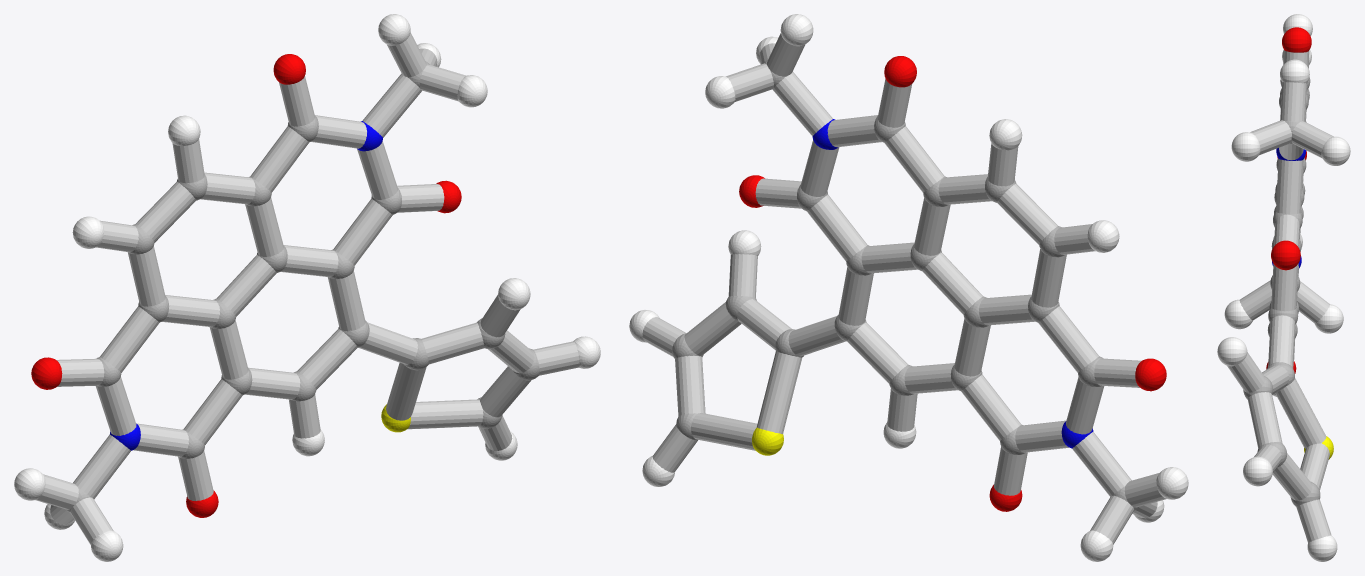
Rendered from Dimethyl_Naphthalene_Dicarboximide_Phi_5_Theta_30_Thiophene.glb.
3 views of the same model, side by side, from view 1: azimuth 30°, elevation 25°; view 2: azimuth 150°, elevation 25°; view 3: azimuth 270°, elevation 25° (orthographic). The views are drawn at different scales.
Parts seen in each view (by area): view 1: grp14119, grp7241, grp1, grp12309, grp11585; view 2: grp14119, grp7241, grp1, grp12309, grp11585, grp13757; view 3: grp14119, grp7241, grp1, grp12309.
Boxes of the visible parts, x1=… form: grp14119: x1=35, y1=32, x2=579, y2=544; grp7241: x1=14, y1=14, x2=600, y2=561; grp1: x1=65, y1=61, x2=539, y2=513; grp12309: x1=31, y1=54, x2=461, y2=517; grp11585: x1=110, y1=121, x2=382, y2=450; grp14119: x1=642, y1=33, x2=1166, y2=544; grp7241: x1=629, y1=14, x2=1188, y2=561; grp1: x1=672, y1=60, x2=1138, y2=510; grp12309: x1=739, y1=56, x2=1166, y2=511; grp11585: x1=812, y1=119, x2=1093, y2=448; grp13757: x1=752, y1=427, x2=783, y2=455; grp14119: x1=1227, y1=50, x2=1333, y2=542; grp7241: x1=1217, y1=14, x2=1350, y2=561; grp1: x1=1243, y1=77, x2=1320, y2=506; grp12309: x1=1266, y1=27, x2=1311, y2=373.
Size of the model in its own units: 12.04 by 9.85 by 2.67.
